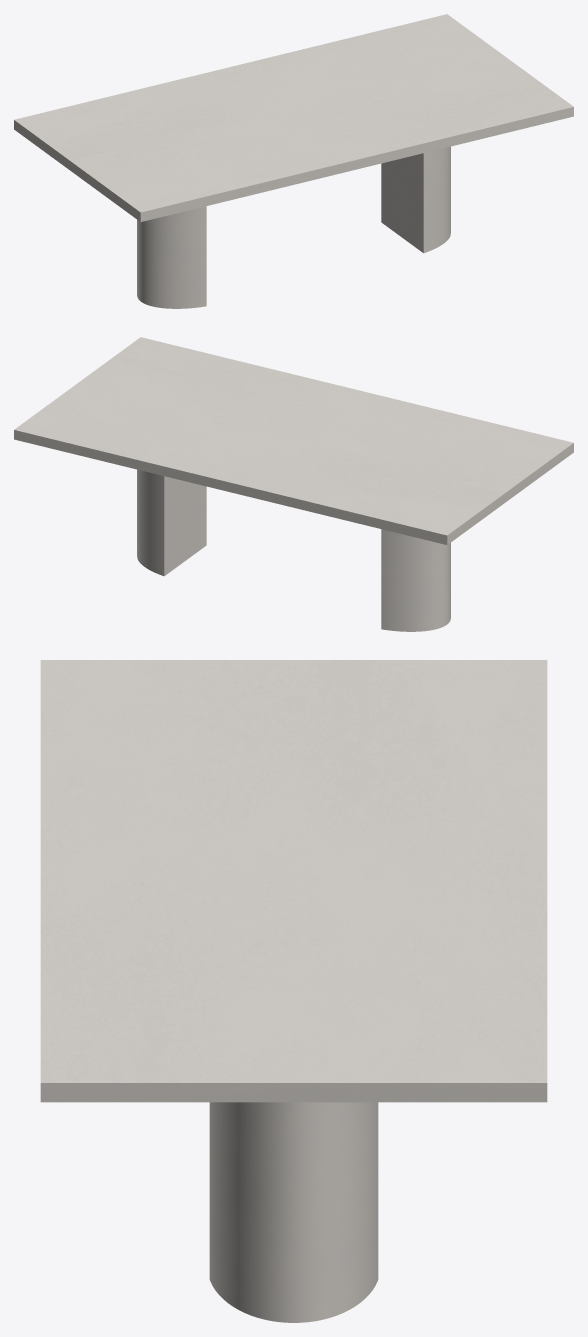
The model's file is pearlwhite_recta_standard_hillside.glb.
The picture shows the model from 3 angles, top to bottom: view 1: azimuth 30°, elevation 25°; view 2: azimuth 150°, elevation 25°; view 3: azimuth 270°, elevation 25°; orthographic projection. The views are drawn at different scales.
Visible parts, largest first — view 1: standard_recta, hillside; view 2: standard_recta, hillside; view 3: standard_recta, hillside.
Part boxes in pixels (bbox=[...]): standard_recta: bbox=[14, 14, 573, 221]; hillside: bbox=[137, 146, 450, 308]; standard_recta: bbox=[14, 337, 573, 544]; hillside: bbox=[137, 469, 450, 631]; standard_recta: bbox=[40, 660, 547, 1102]; hillside: bbox=[209, 1102, 378, 1322].
Size of the model in its own units: 7.5 by 2.5 by 3.8.
Materials: 1 (1 with a texture image).
